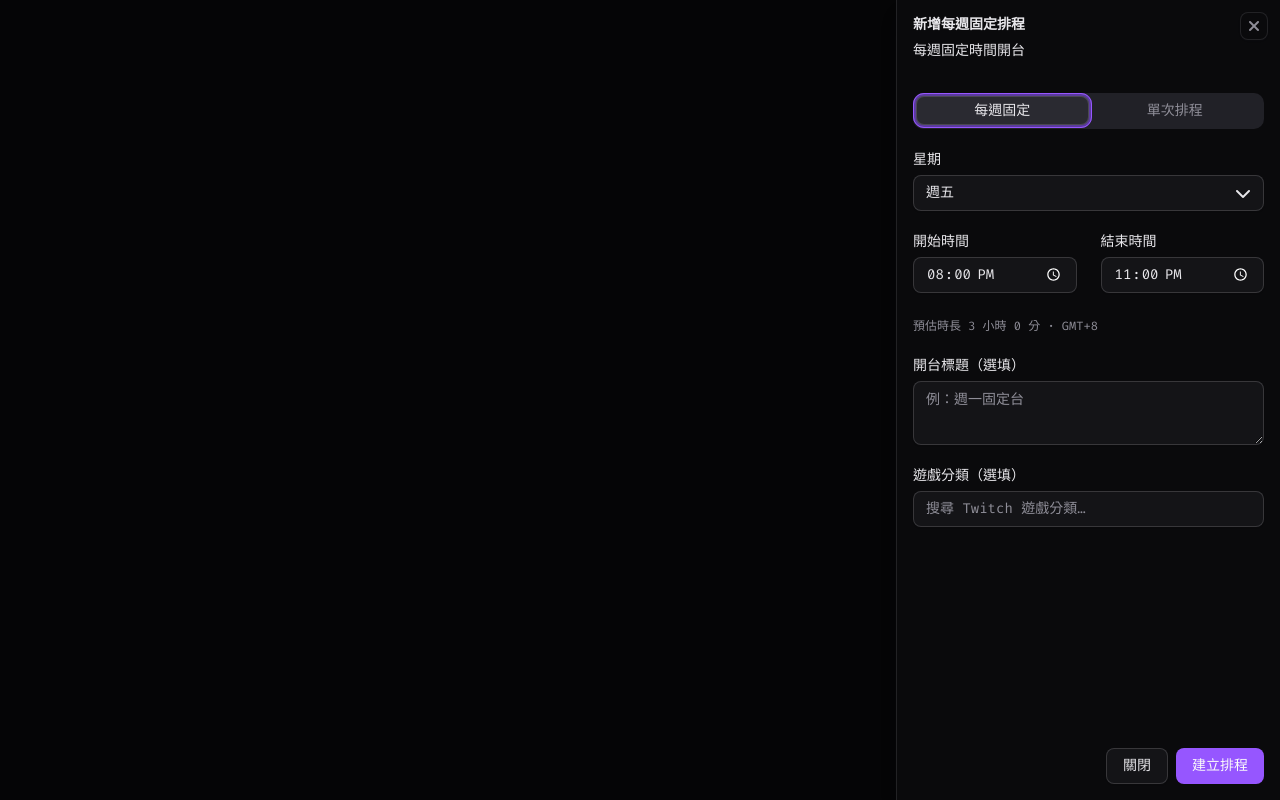
Test: ScheduleSheet create flow › requires a Twitch category result instead of accepting unselected search text
Type "Just" into the dropdown labelled "遊戲分類（選填）" at (1088, 508), box [913,490,1264,526]
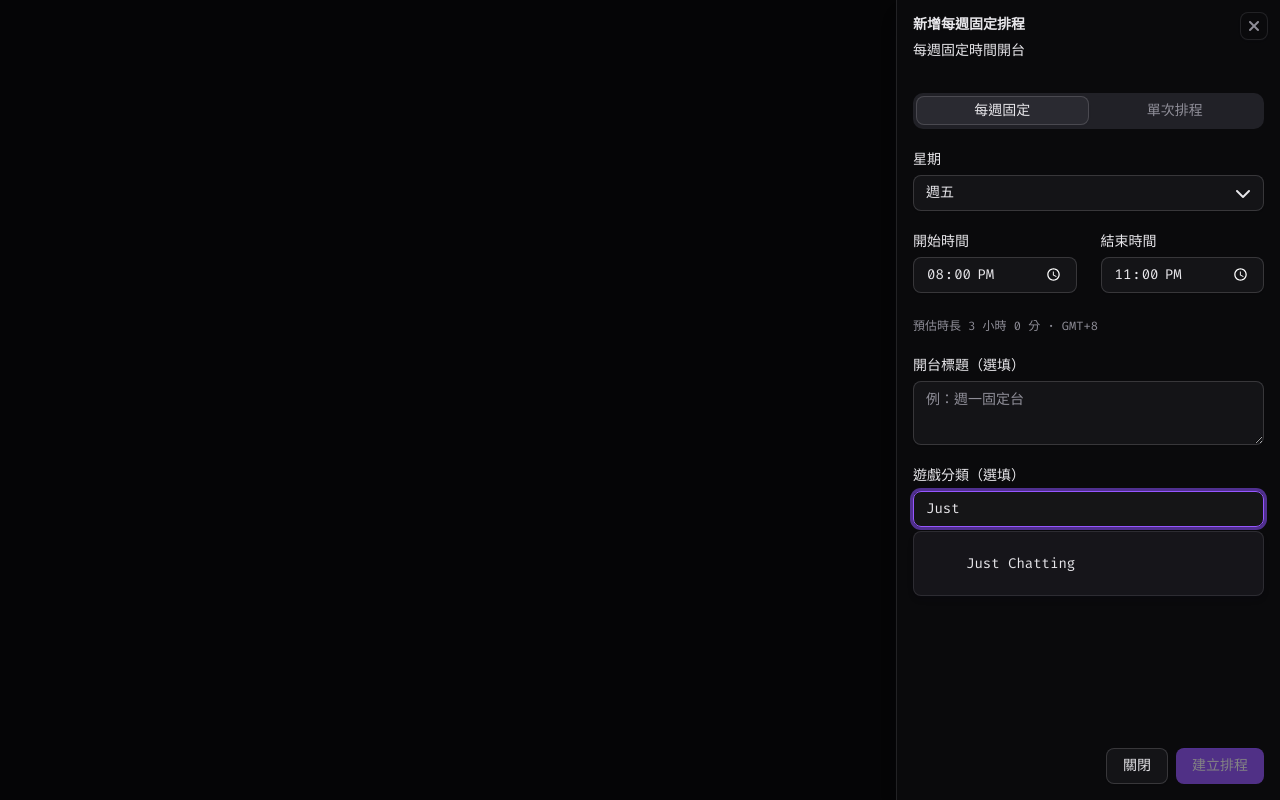
Check: the text "請從搜尋結果選擇分類" is shown, box [913,536,1033,552]
Check: the button "建立排程" is disabled, box [1176,748,1264,784]
Click the option "Just Chatting" at (1021, 563), box [966,554,1075,572]
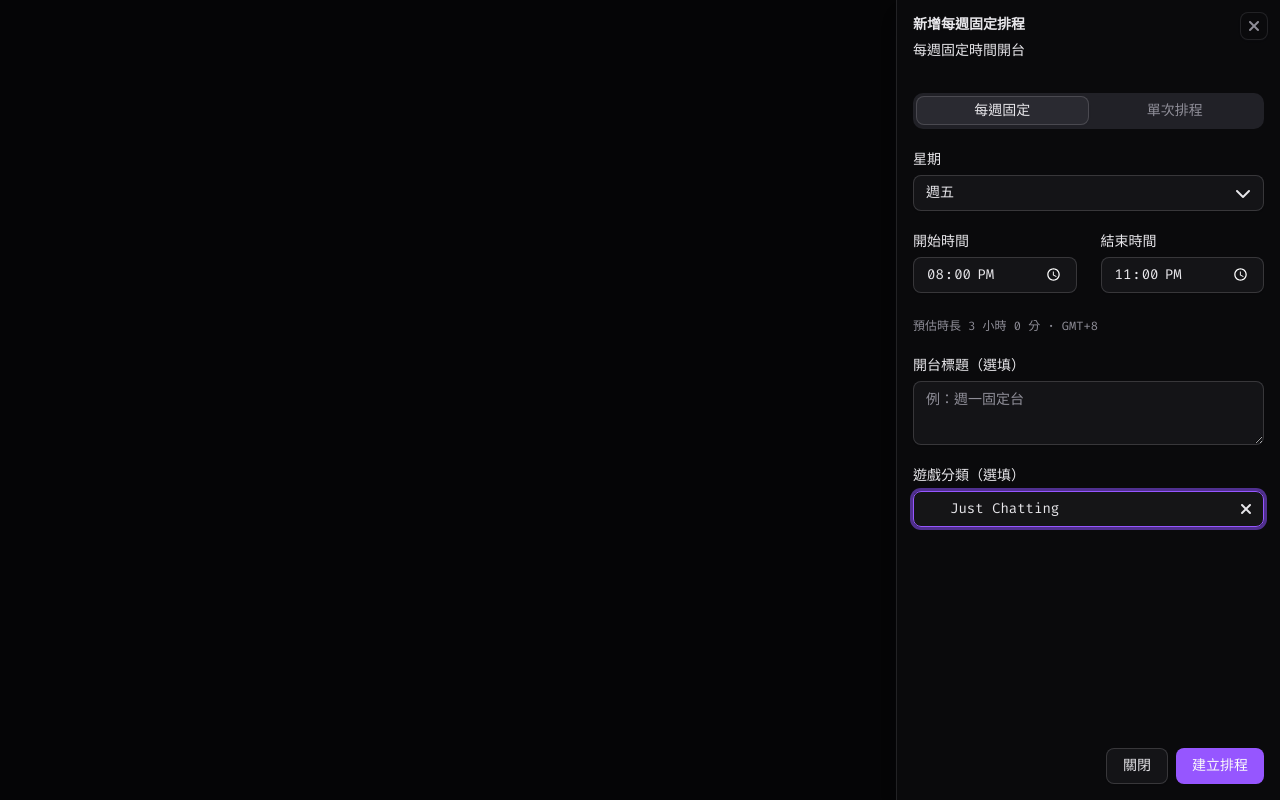
Check: the button "建立排程" is enabled, box [1176,748,1264,784]
